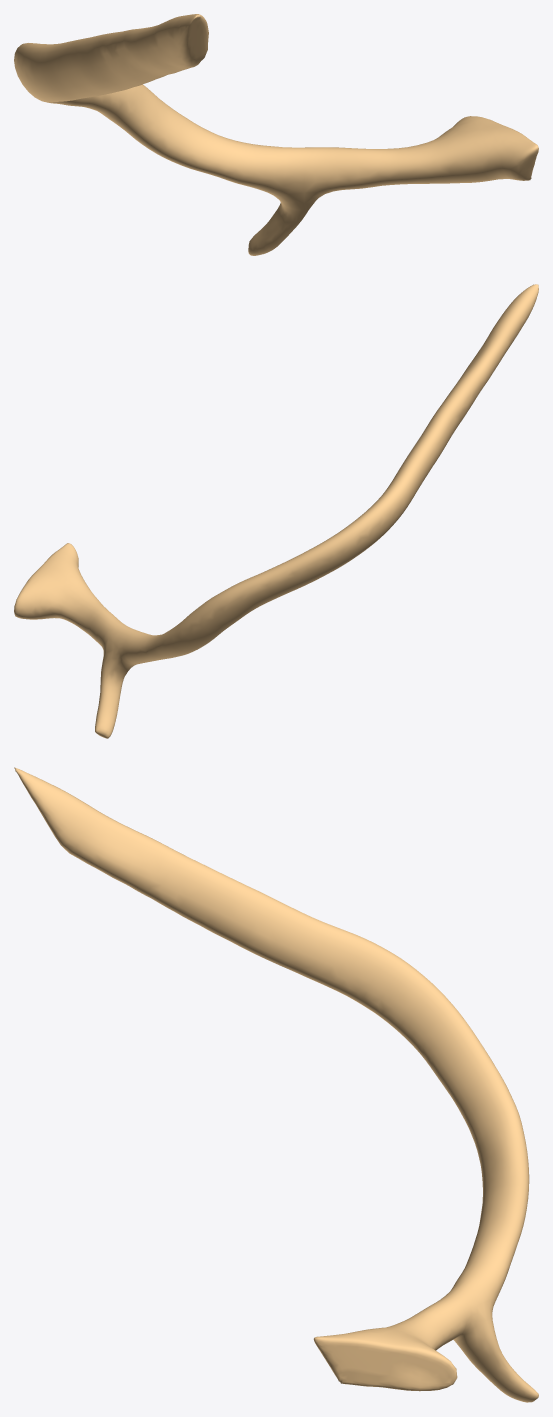
3 views of the same model, one above another, from view 1: azimuth 30°, elevation 25°; view 2: azimuth 150°, elevation 25°; view 3: azimuth 270°, elevation 25° (orthographic). The views are drawn at different scales.
Parts seen in each view (by area): view 1: N_T2.obj; view 2: N_T2.obj; view 3: N_T2.obj.
Part boxes in pixels (x1,y1,x2,y2): N_T2.obj: (14,14,538,255); N_T2.obj: (14,284,538,738); N_T2.obj: (14,767,538,1402).
Bounding box in the file's own units: 0.00106 × 0.00102 × 0.001.
